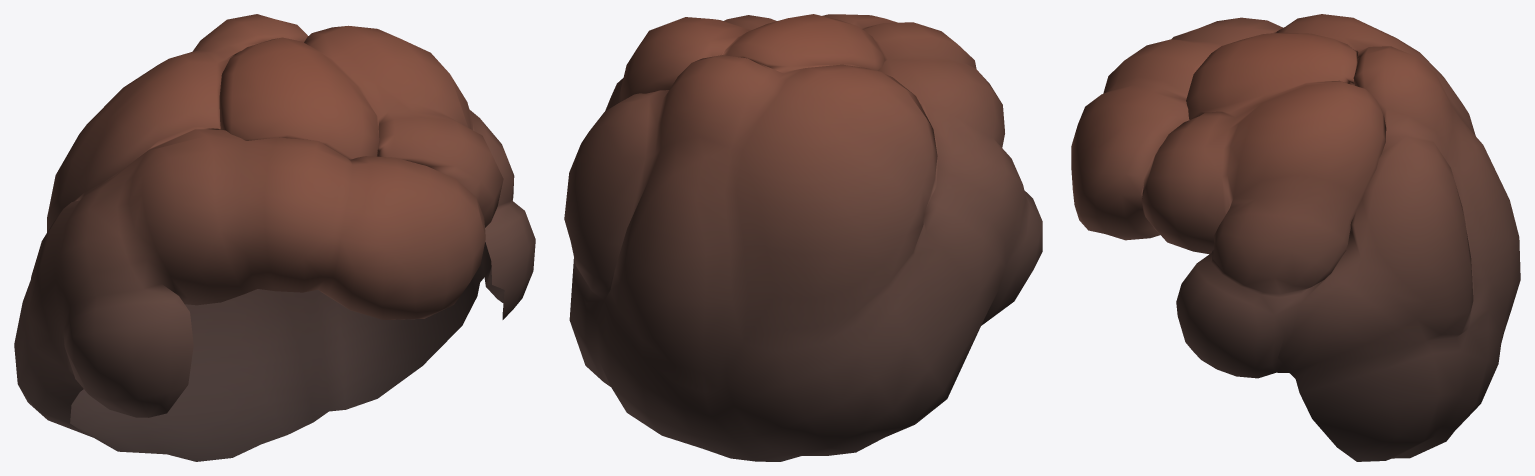
File: Hairstyle_Male_04.glb
3 renders of one model, left to right at view 1: azimuth 30°, elevation 25°; view 2: azimuth 150°, elevation 25°; view 3: azimuth 270°, elevation 25°, orthographic. The views are drawn at different scales.
Parts seen in each view (by area): view 1: Hairstyle_Male_04; view 2: Hairstyle_Male_04; view 3: Hairstyle_Male_04.
Boxes of the visible parts, <box> form: Hairstyle_Male_04: <box>14,14,535,461</box>; Hairstyle_Male_04: <box>564,14,1042,461</box>; Hairstyle_Male_04: <box>1071,14,1520,461</box>.
Size of the model in its own units: 0.6604 by 0.5901 by 0.6083.
Materials: 1 (1 with a texture image).
